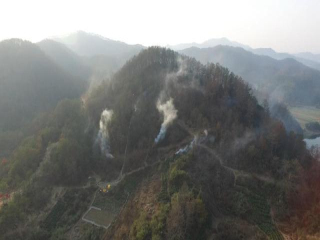smoke: (93, 61, 210, 162)
